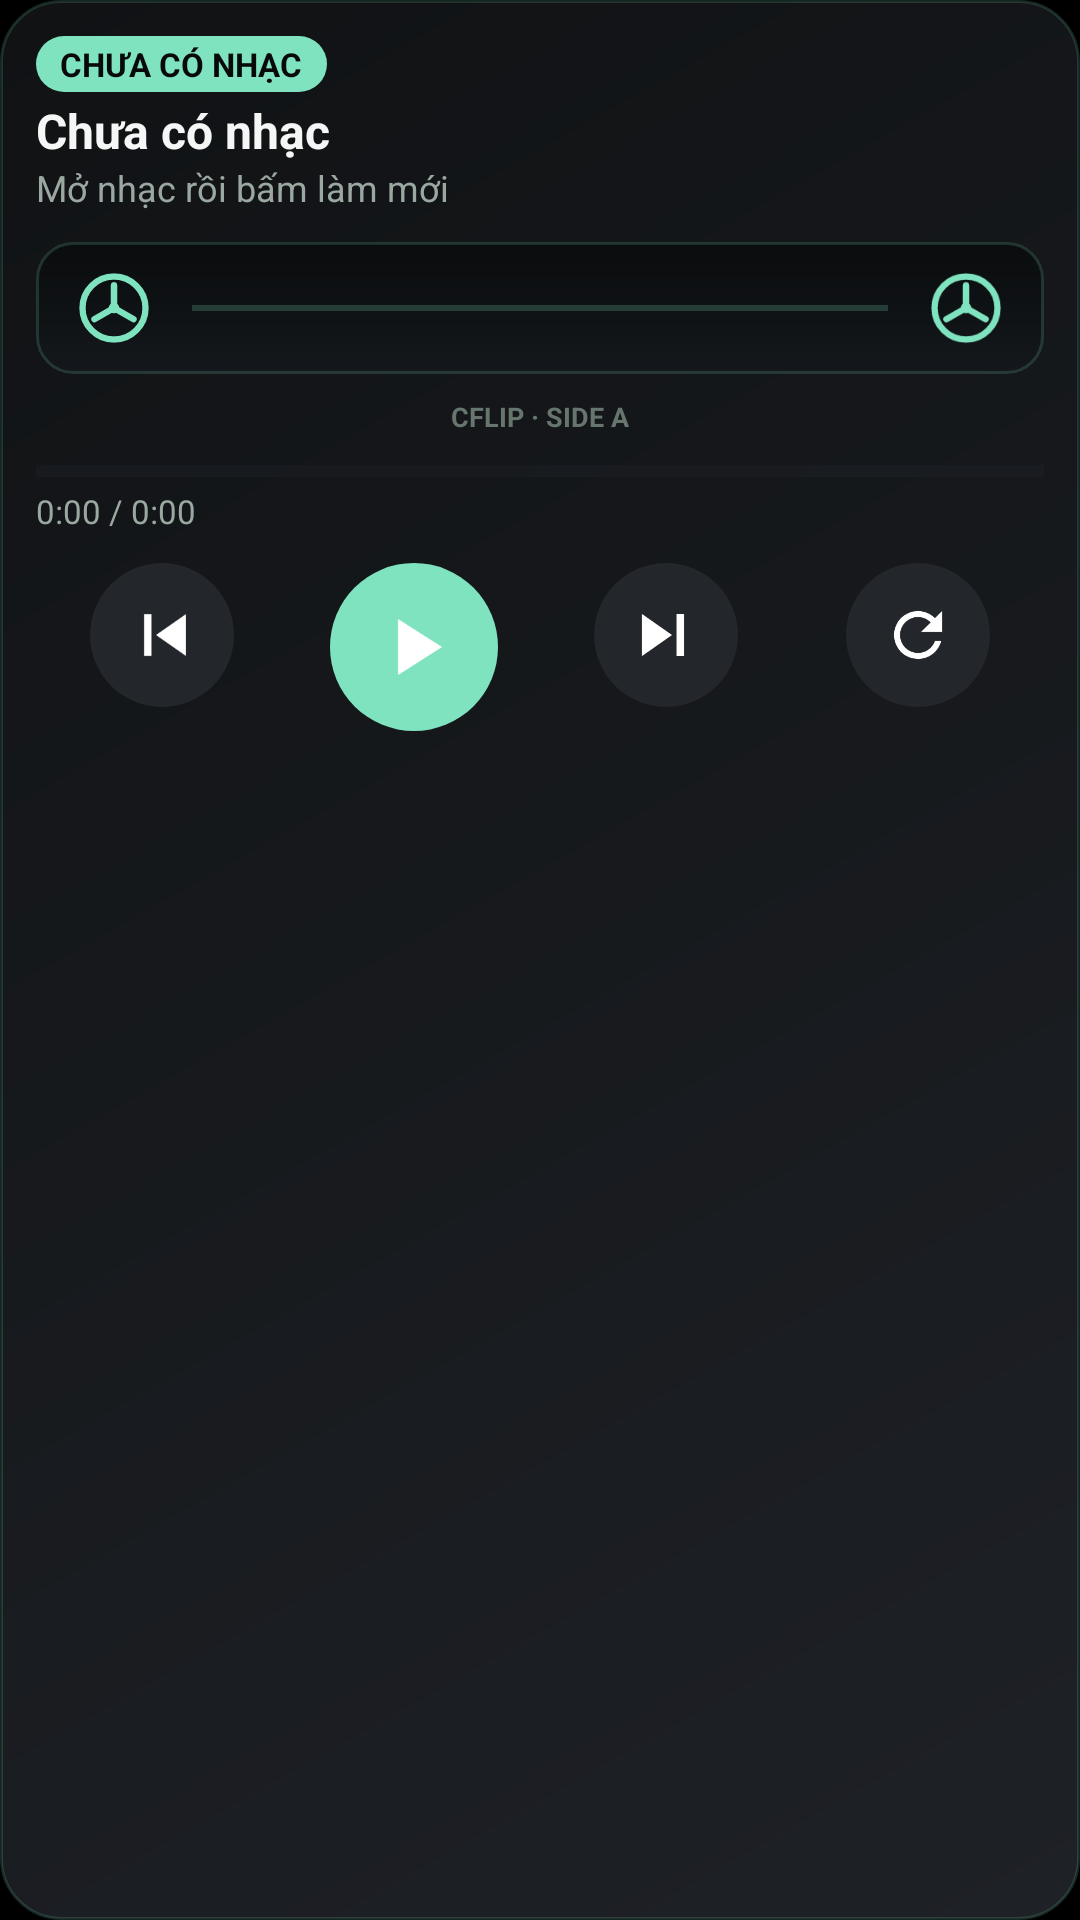

Where icons sit on this 1080w x 1920h app screen, as (x1, y1, x2, y2):
Bài kế: (641, 614, 685, 656)
Bài trước: (143, 614, 186, 657)
Cuộn băng: (79, 273, 149, 343), (931, 273, 1001, 343)
Làm mới: (846, 563, 990, 707)
Phát / tạm dừng: (330, 563, 498, 731)
